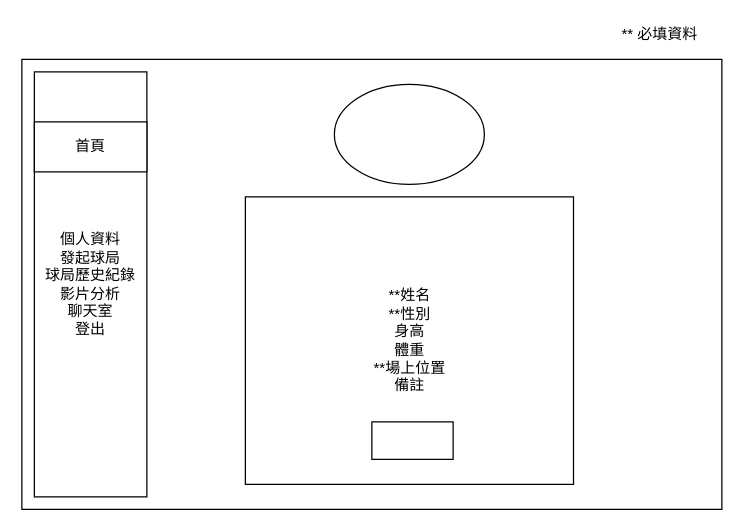
Image size: 744x531. Some labels were removed from this diagram. The shapes that lost their labels are listed below. From the top down, each one's box as (x1, y1, x2, y2) in pixels, then its label:
(333, 83, 484, 184): 大頭照
(371, 421, 453, 459): 確定
